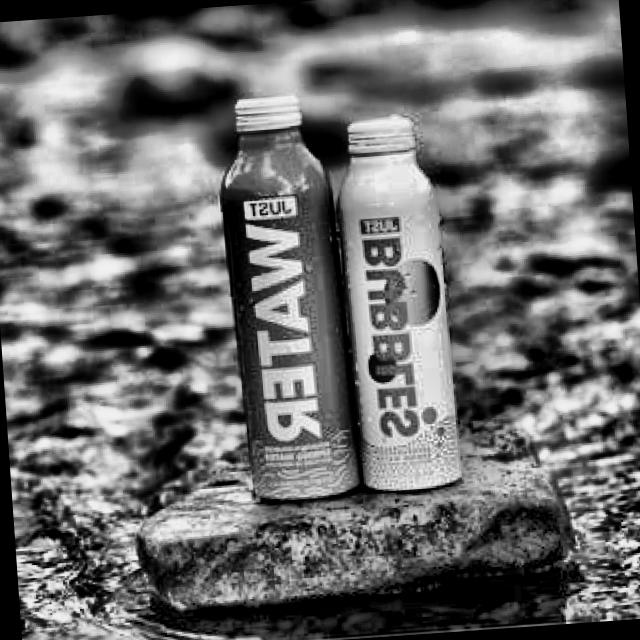waterbottle: (206, 75, 370, 512), (319, 102, 472, 509)
